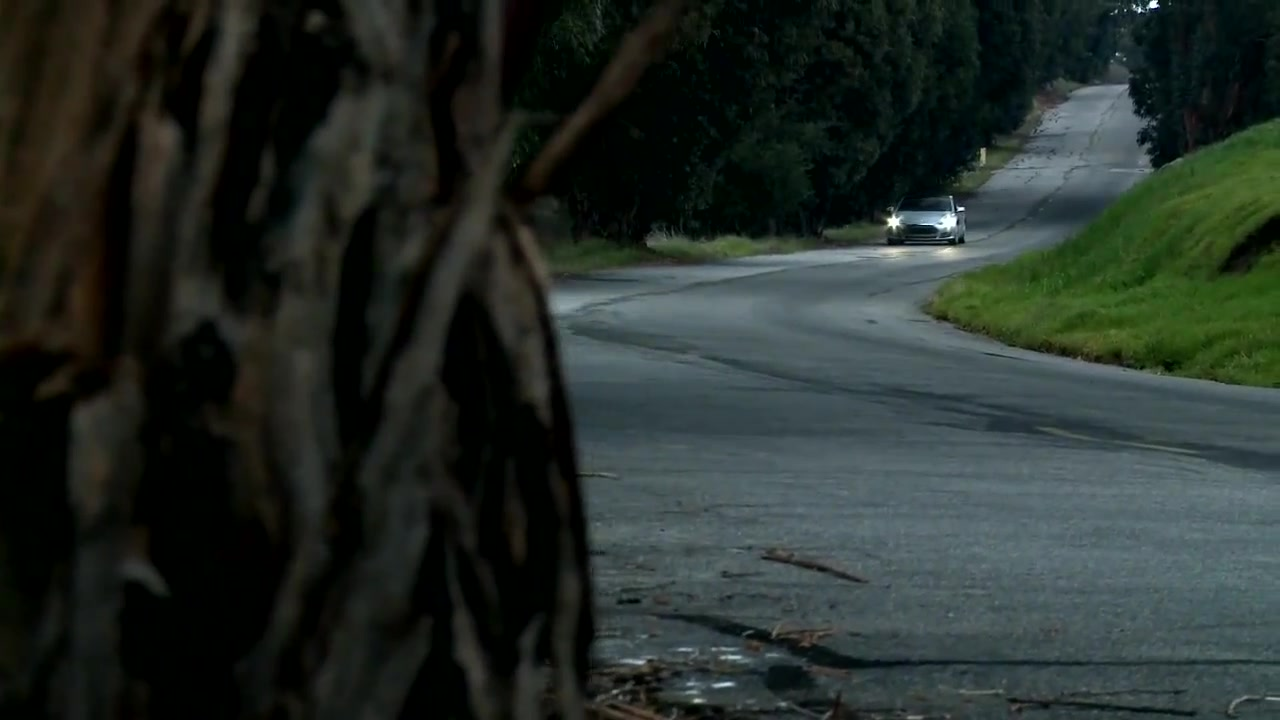car: (884, 191, 972, 247)
